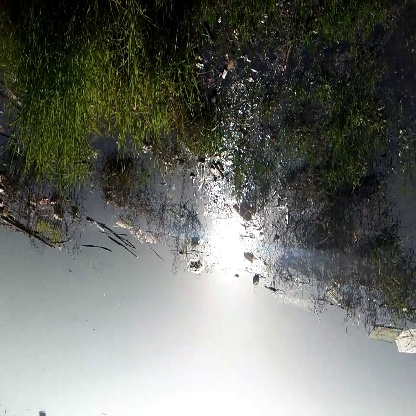branch: (88, 214, 145, 261)
